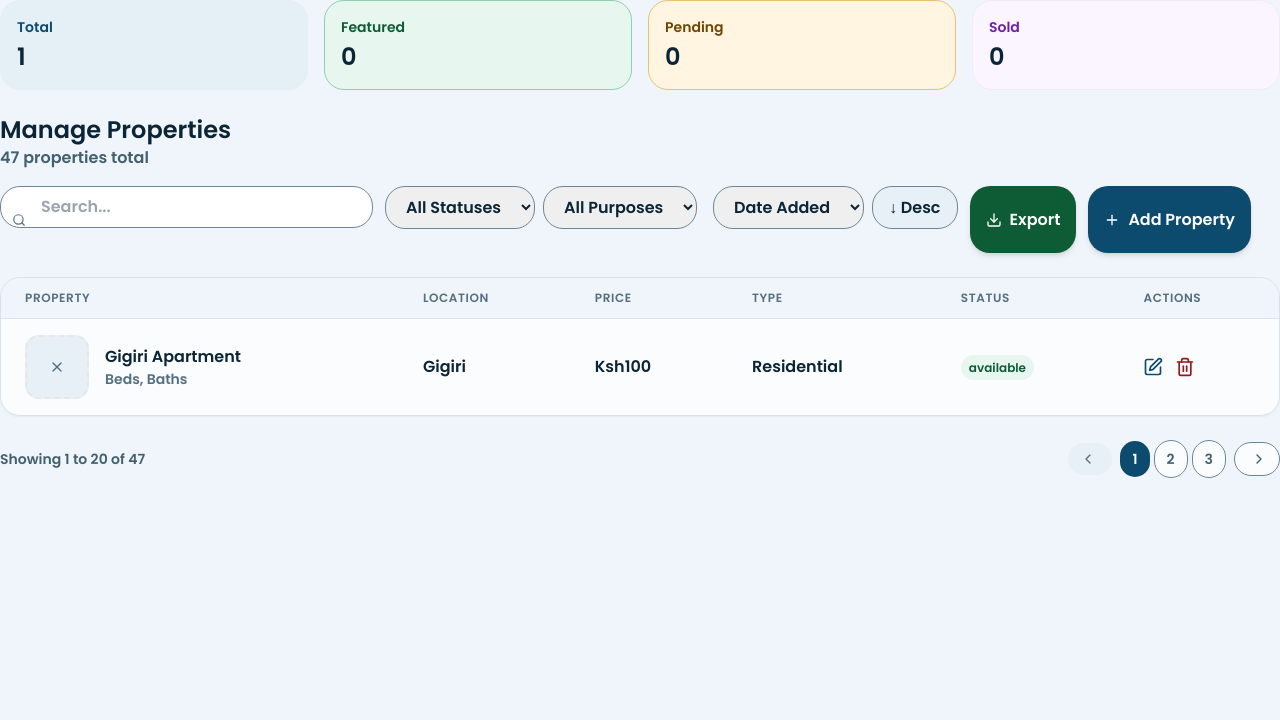
AdminProperties rendering › gates the table while a delete is in flight, so a second click cannot hit it
The width and height of the screenshot is (1280, 720).
What coordinates should you click on to do the following:
click the button titled "Delete property"
I would click on:
 (1186, 367)
Its box is [1176,357,1196,377].
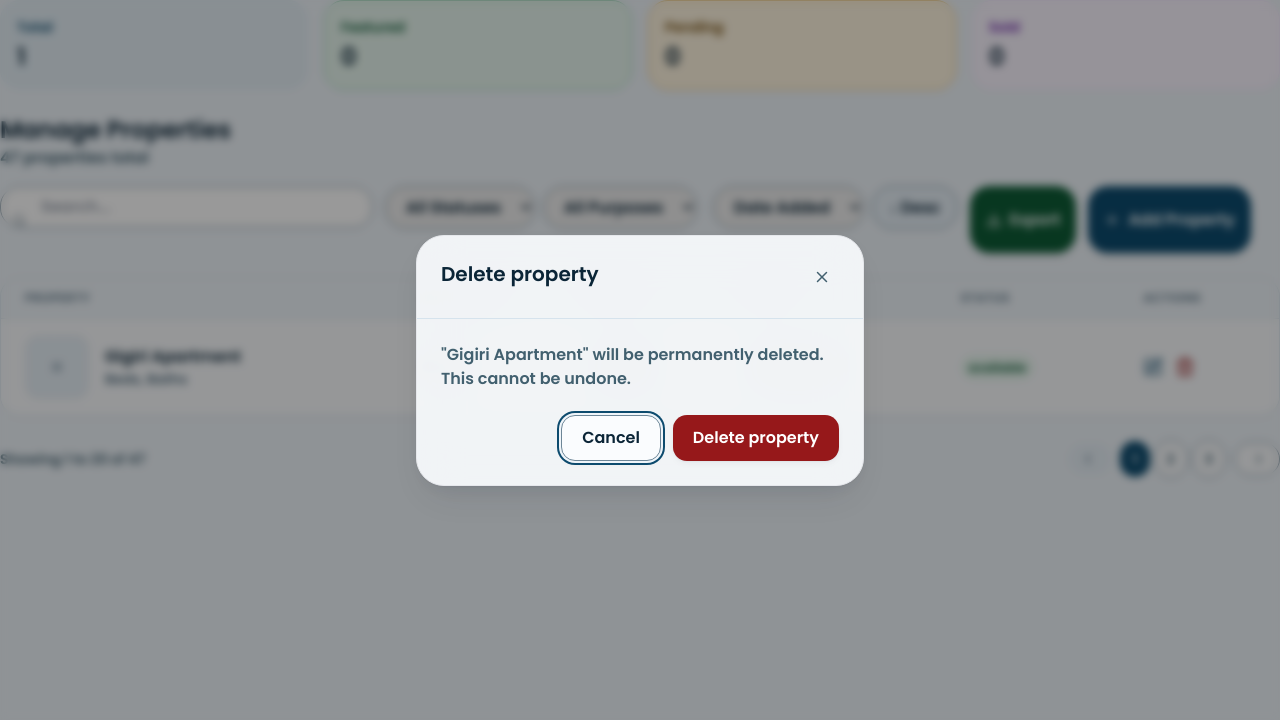
What coordinates should you click on to do the following:
click the button "Delete property"
I would click on:
 (756, 438)
Its box is [673,414,839,460].
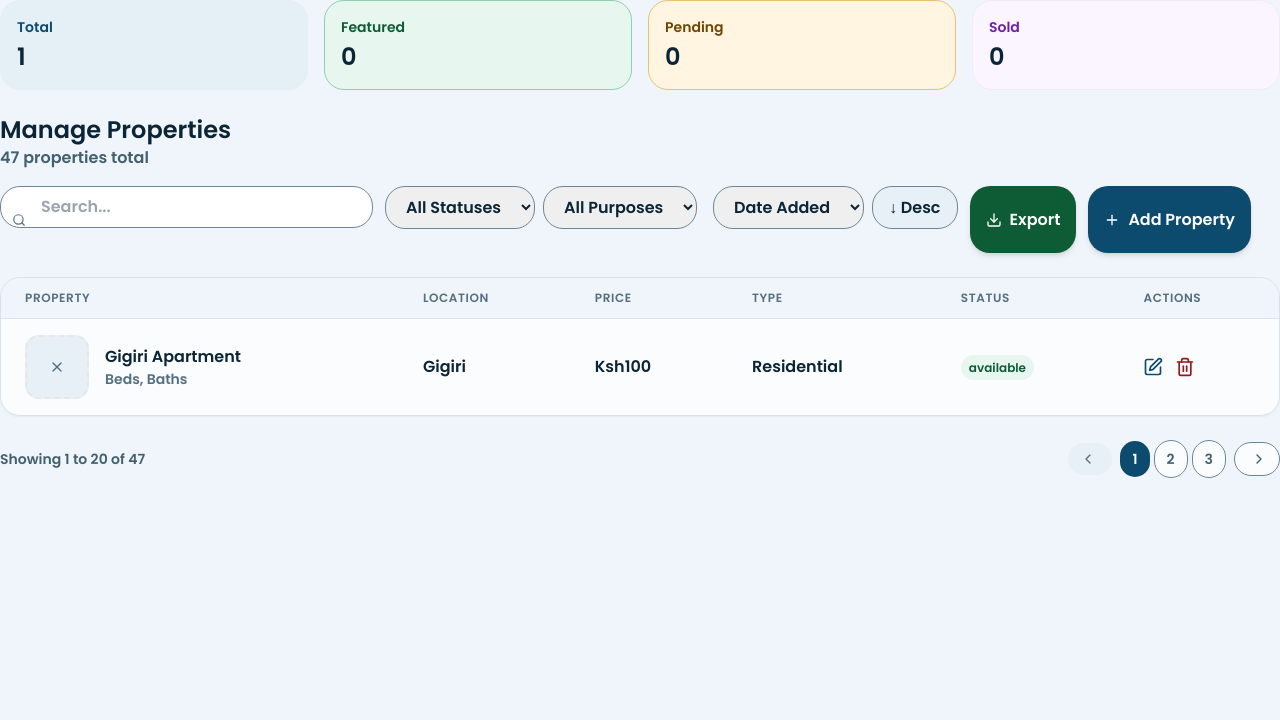
Expected: the text "Showing 1 to 20 of 47" is shown, [0,449,145,469]
Expected: the heading titled "Delete property" is gone
